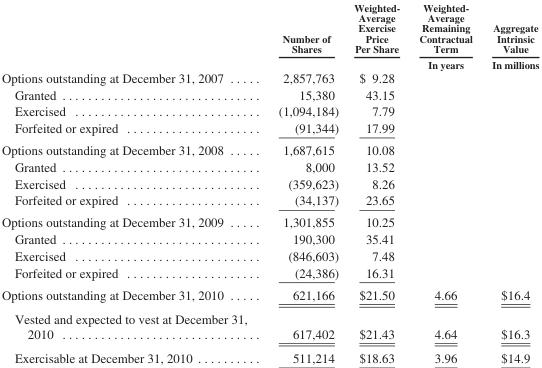table: (0, 1, 538, 364)
table column: (0, 1, 262, 364), (262, 1, 345, 364), (408, 1, 481, 364), (345, 1, 408, 364), (481, 1, 538, 364)
table column header: (0, 1, 538, 69)
table row: (0, 1, 538, 69), (0, 306, 538, 345), (0, 283, 538, 306), (0, 138, 538, 158), (0, 191, 538, 211), (0, 119, 538, 138), (0, 211, 538, 230), (0, 264, 538, 283), (0, 345, 538, 364), (0, 85, 538, 102), (0, 102, 538, 119), (0, 174, 538, 191), (0, 230, 538, 247), (0, 247, 538, 264), (0, 69, 538, 85), (0, 158, 538, 174)
